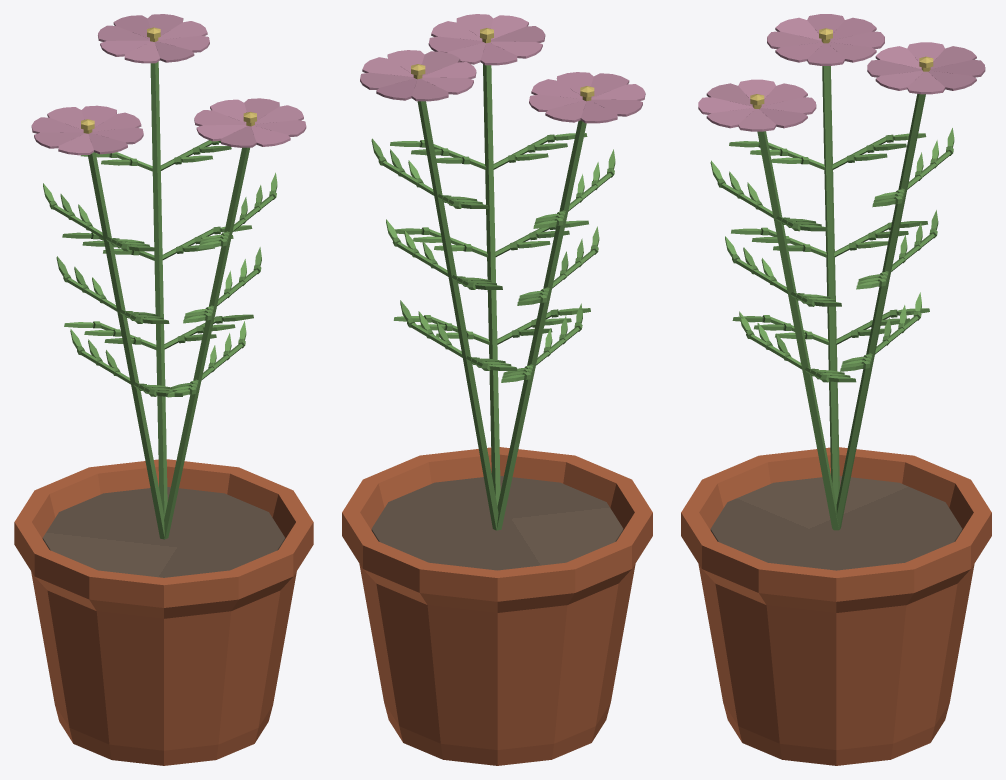
The model's file is cosmos.glb.
The picture shows the model from 3 angles, left to right: view 1: azimuth 30°, elevation 25°; view 2: azimuth 150°, elevation 25°; view 3: azimuth 270°, elevation 25°; orthographic projection. The views are drawn at different scales.
Parts seen in each view (by area): view 1: cosmos/review-terra-vessel, cosmos/review-rooted-soil, cosmos/petiole-054, cosmos/petiole-107, cosmos/petiole-001, cosmos/petal-157, cosmos/petal-154, cosmos/petal-048, cosmos/petal-101, cosmos/petal-150, cosmos/petal-097, cosmos/petal-104 (+14 smaller); view 2: cosmos/review-terra-vessel, cosmos/review-rooted-soil, cosmos/petiole-054, cosmos/petiole-001, cosmos/petiole-107, cosmos/petal-154, cosmos/petal-101, cosmos/petal-048, cosmos/petal-044, cosmos/petal-045, cosmos/petal-151, cosmos/petal-098 (+16 smaller); view 3: cosmos/review-terra-vessel, cosmos/review-rooted-soil, cosmos/petiole-107, cosmos/petiole-054, cosmos/petiole-001, cosmos/petal-045, cosmos/petal-051, cosmos/petal-157, cosmos/petal-098, cosmos/petal-151, cosmos/petal-104, cosmos/petal-046 (+14 smaller).
Part boxes in pixels (box(x1,y1,x2,y2)): cosmos/review-terra-vessel: box(14, 459, 313, 765); cosmos/review-rooted-soil: box(42, 487, 285, 577); cosmos/petiole-054: box(150, 61, 167, 516); cosmos/petiole-107: box(88, 152, 164, 539); cosmos/petiole-001: box(164, 147, 249, 539); cosmos/petal-157: box(31, 117, 83, 133); cosmos/petal-154: box(92, 112, 141, 131); cosmos/petal-048: box(255, 105, 303, 124); cosmos/petal-101: box(158, 21, 207, 39); cosmos/petal-150: box(34, 132, 84, 148); cosmos/petal-097: box(100, 40, 150, 56); cosmos/petal-104: box(98, 25, 149, 41); cosmos/review-terra-vessel: box(342, 447, 652, 765); cosmos/review-rooted-soil: box(371, 476, 623, 570); cosmos/petiole-054: box(417, 101, 498, 530); cosmos/petiole-001: box(483, 64, 500, 506); cosmos/petiole-107: box(496, 120, 586, 530); cosmos/petal-154: box(531, 79, 582, 98); cosmos/petal-101: box(362, 57, 413, 76); cosmos/petal-048: box(431, 21, 482, 40); cosmos/petal-044: box(490, 41, 542, 58); cosmos/petal-045: box(491, 26, 545, 42); cosmos/petal-151: box(591, 84, 645, 100); cosmos/petal-098: box(422, 62, 476, 78); cosmos/review-terra-vessel: box(681, 447, 991, 765); cosmos/review-rooted-soil: box(710, 476, 962, 570); cosmos/petiole-107: box(822, 66, 839, 504); cosmos/petiole-054: box(836, 94, 925, 529); cosmos/petiole-001: box(757, 131, 838, 530); cosmos/petal-045: box(706, 83, 752, 106); cosmos/petal-051: box(761, 83, 807, 106); cosmos/petal-157: box(830, 17, 876, 40); cosmos/petal-098: box(875, 46, 921, 68); cosmos/petal-151: box(775, 17, 821, 40); cosmos/petal-104: box(930, 46, 976, 68); cosmos/petal-046: box(698, 97, 753, 114).
Size of the model in its own units: 0.1907 by 0.4582 by 0.19.
Materials: 5 (5 with a texture image).
